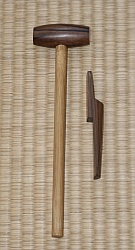hammer: (32, 21, 90, 239)
